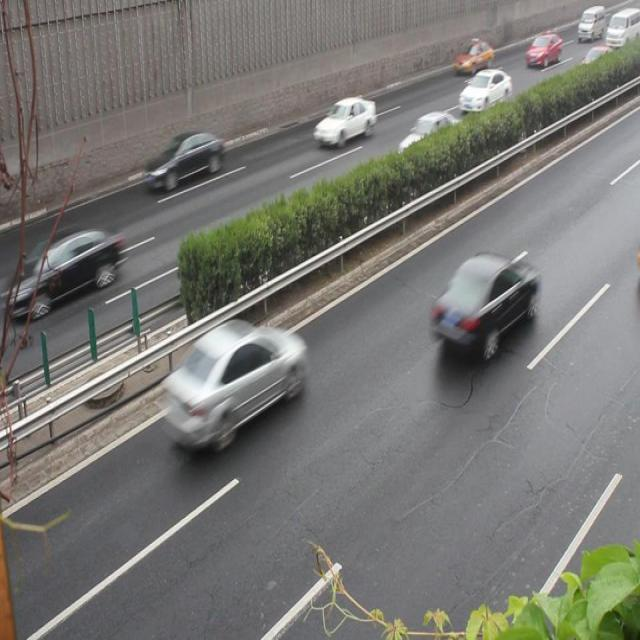car: (164, 321, 304, 446), (431, 252, 538, 362), (15, 228, 124, 318), (140, 130, 225, 195), (398, 110, 464, 166), (314, 95, 376, 149), (458, 70, 510, 116), (455, 39, 493, 75)
